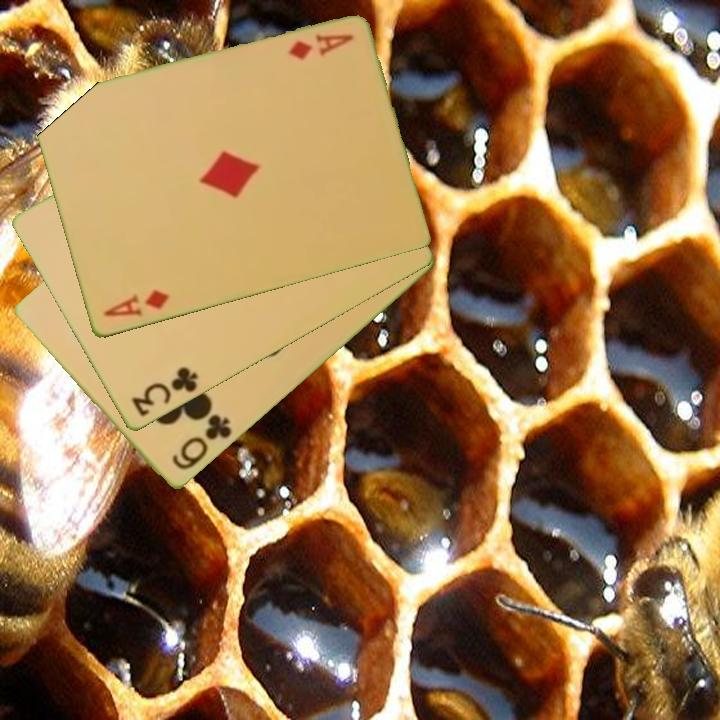3c: (128, 363, 201, 421)
6c: (168, 411, 235, 474)
Ad: (100, 286, 173, 320), (285, 31, 356, 64)
